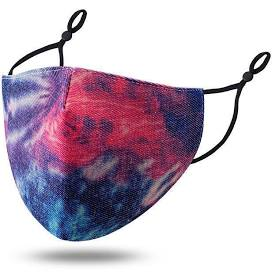FaceMask: (1, 66, 203, 241)
